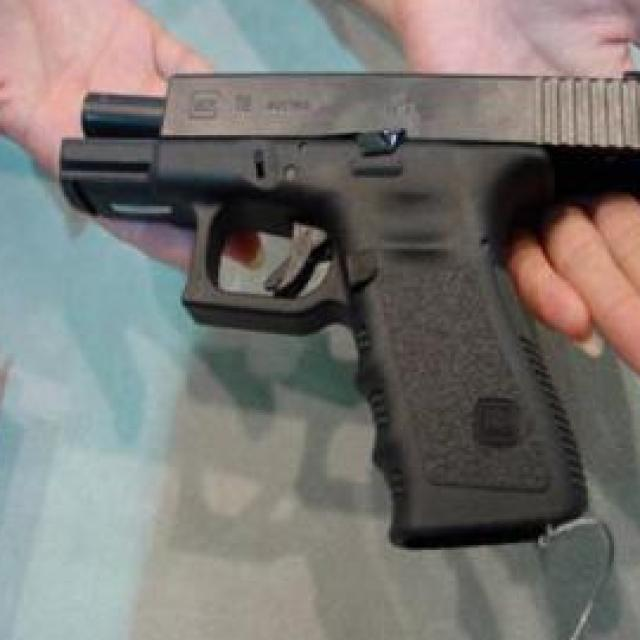pistol: (57, 64, 640, 555)
